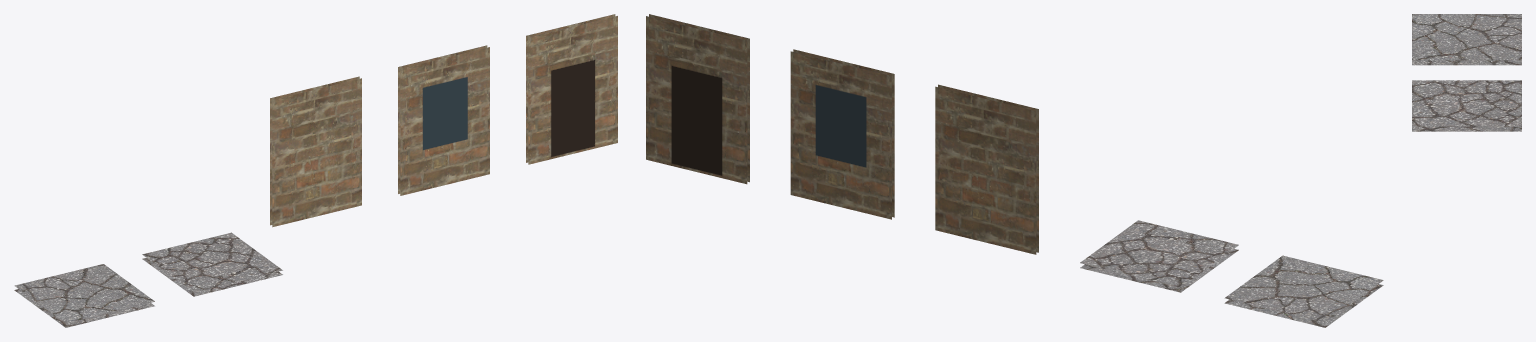
The model's file is building_parts_filled.glb.
The picture shows the model from 3 angles, left to right: view 1: azimuth 30°, elevation 25°; view 2: azimuth 150°, elevation 25°; view 3: azimuth 270°, elevation 25°; orthographic projection. The views are drawn at different scales.
Visible parts, largest first — view 1: Wall, Window, Door, Hole, Floor; view 2: Window, Wall, Door, Floor, Hole; view 3: Floor, Hole.
Part boxes in pixels (x1,y1,x2,y2): Wall: (270, 76, 361, 227); Window: (398, 45, 489, 195); Door: (526, 14, 617, 164); Hole: (14, 264, 154, 327); Floor: (142, 232, 282, 296); Window: (790, 49, 894, 219); Wall: (935, 84, 1038, 254); Door: (646, 14, 749, 184); Floor: (1080, 220, 1238, 292); Hole: (1224, 255, 1383, 327); Floor: (1412, 80, 1521, 131); Hole: (1412, 14, 1521, 65).
Bounding box in the file's own units: 14.1 × 2.9 × 2.1.
2 materials, 2 textured.
